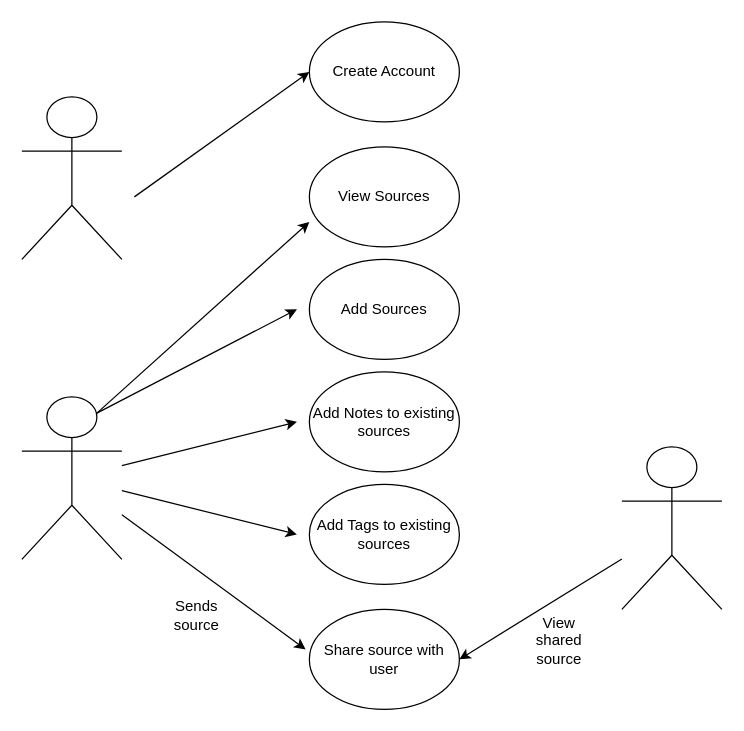
Image size: 744x731. Some labels were removed from this diagram. The shapes that lost their labels are listed below. From the top down, each one's centre as x and y in pixels, then its label:
At pixel 71 177: "New User".
At pixel 71 477: "User".
At pixel 671 527: "Other User".
